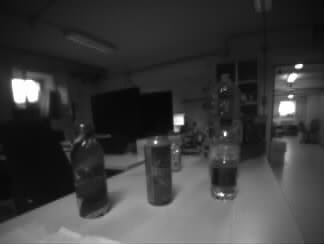Bottle: (70, 122, 108, 216), (211, 73, 237, 200)
Tin can: (144, 138, 172, 204)
